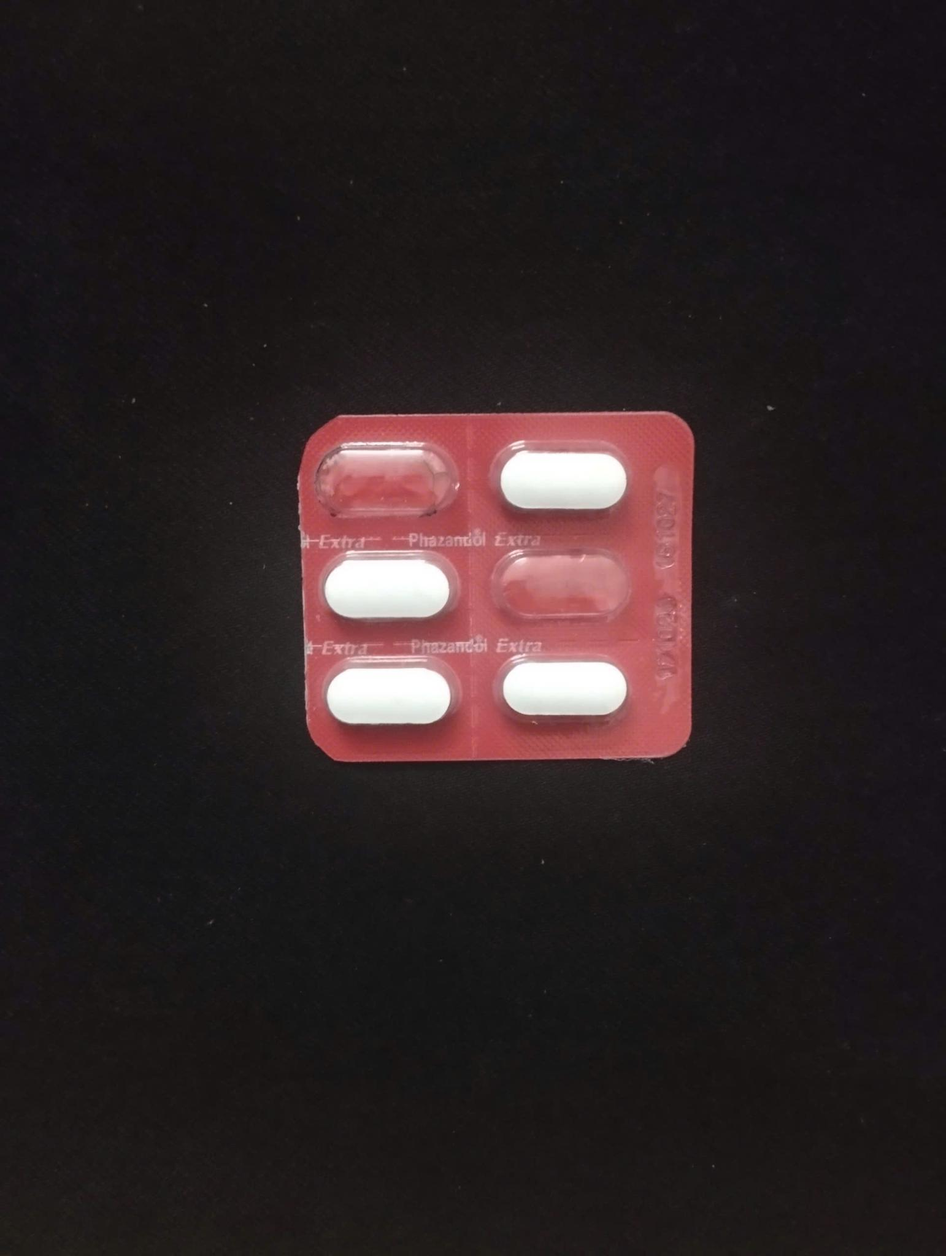Empty: (491, 545, 638, 630), (317, 442, 452, 522)
Full: (493, 445, 632, 526), (314, 555, 455, 628), (496, 648, 628, 724), (321, 663, 458, 732)
